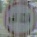Heavy Vehicles: (2, 0, 36, 35)
